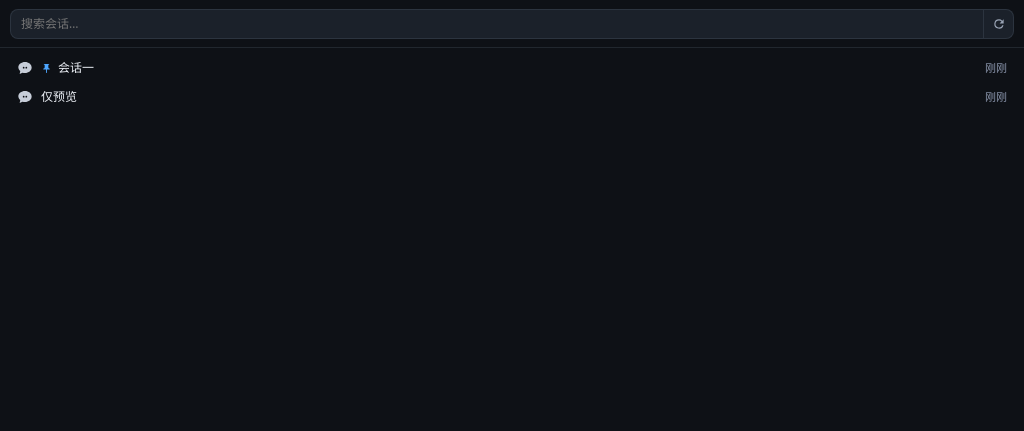
Test: SessionView 右键菜单 › 置顶会话右键菜单显示“取消固定”
Right-click the element with class "session-item" showing "会话一 刚刚" at (76, 68), box left=17, top=59, right=1007, bottom=76
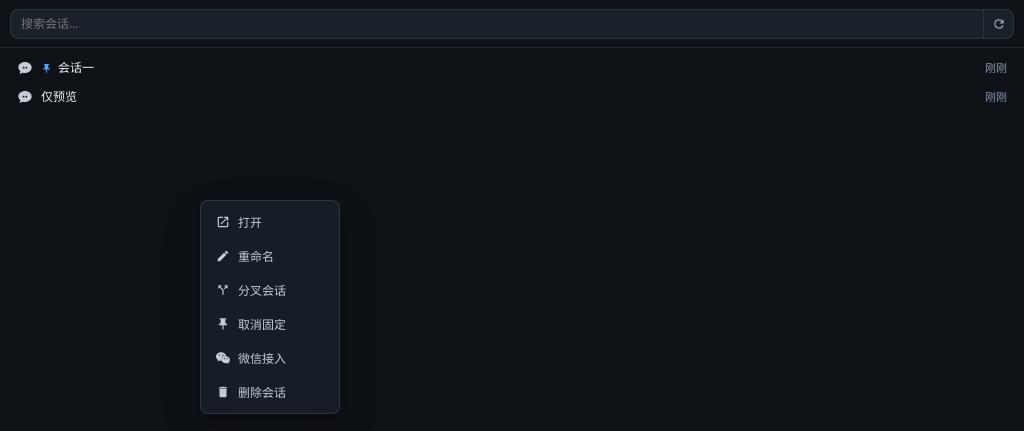
Expected: the text with class "ctx-menu-item" reads "取消固定", left=238, top=316, right=286, bottom=333
